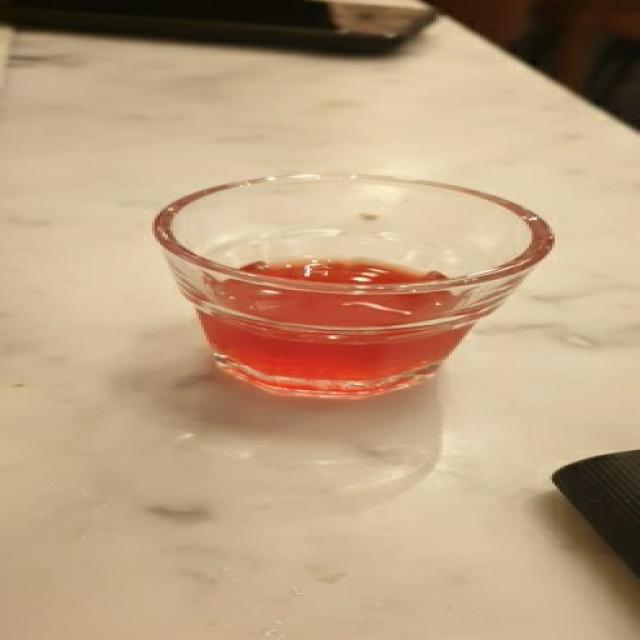Cup: (147, 170, 555, 400)
